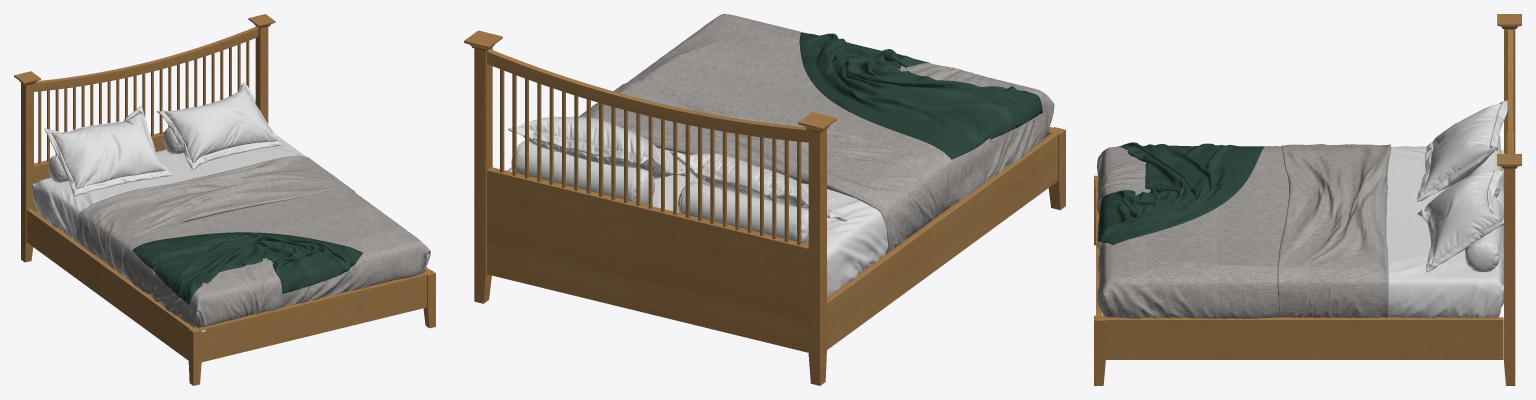
Rendered from MEGA_PACK_BED__bed-45539.glb.
3 renders of one model, left to right at view 1: azimuth 30°, elevation 25°; view 2: azimuth 150°, elevation 25°; view 3: azimuth 270°, elevation 25°, orthographic. The views are drawn at different scales.
Visible parts, largest first — view 1: bed-45539; view 2: bed-45539; view 3: bed-45539.
Part boxes in pixels (<box>): bed-45539: <box>14,14,435,385</box>; bed-45539: <box>464,14,1065,385</box>; bed-45539: <box>1094,14,1521,385</box>.
Size of the model in its own units: 1.83 by 1.28 by 2.21.
Materials: 4 (4 with a texture image).
